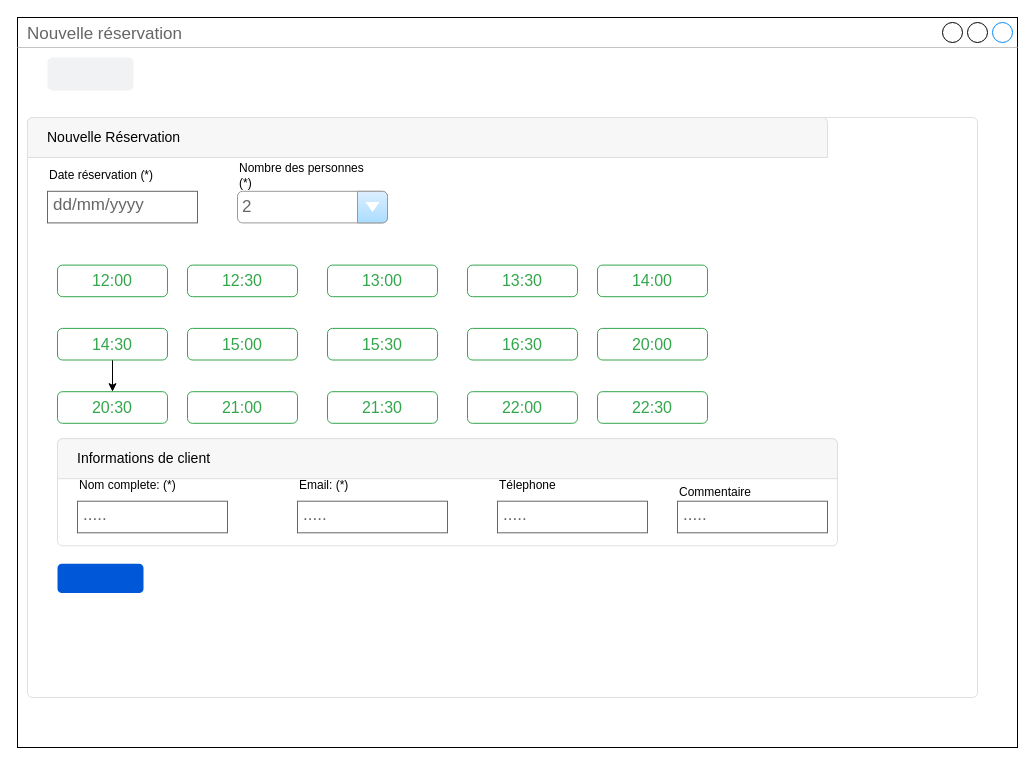
This 1035x765 diagram has some shape labels left out. Each missing label, with the centre of its shape:
Acceuil: point 90,73
Sauvergader: point 100,578
